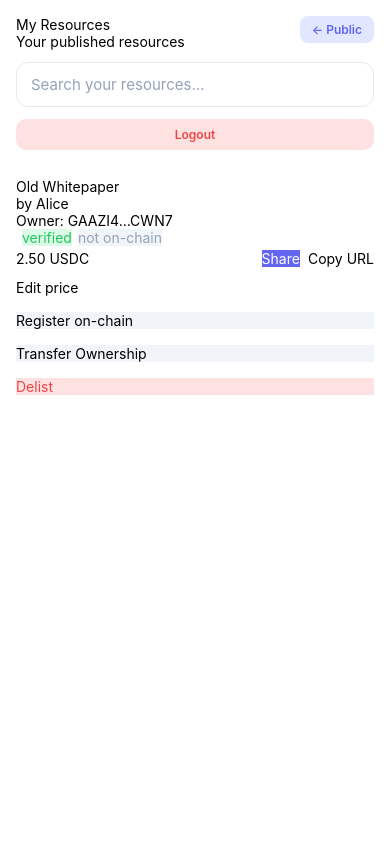
Scenario: PublisherResourcesScreen - Delist › asks for confirmation first and keeps the resource when cancelled
Click the button "Delist" at (35, 386), box [16,378,374,395]
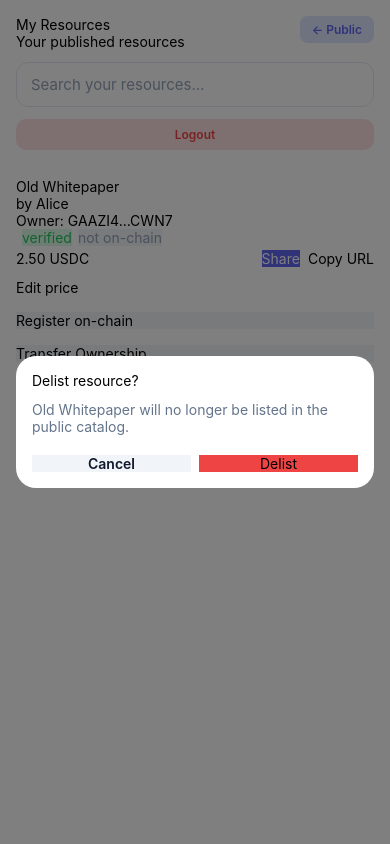
Expected: the element with test id "delist-modal" is shown, [16,356,374,488]
Click the button with aria-label "Cancel delist" at (112, 464), box [32,455,191,472]
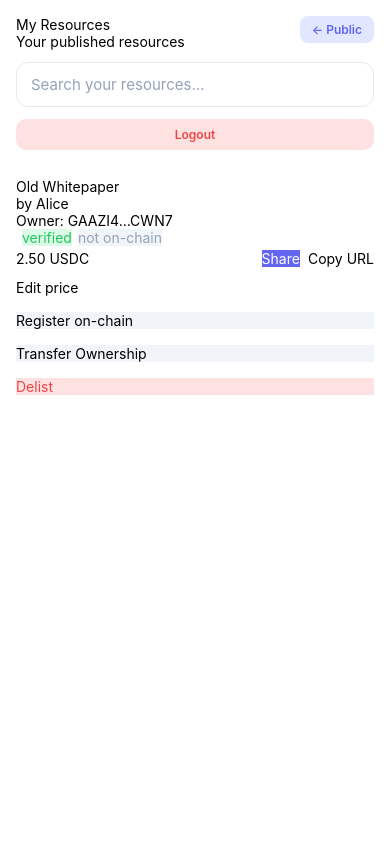
Expected: the element with test id "delist-modal" is gone
